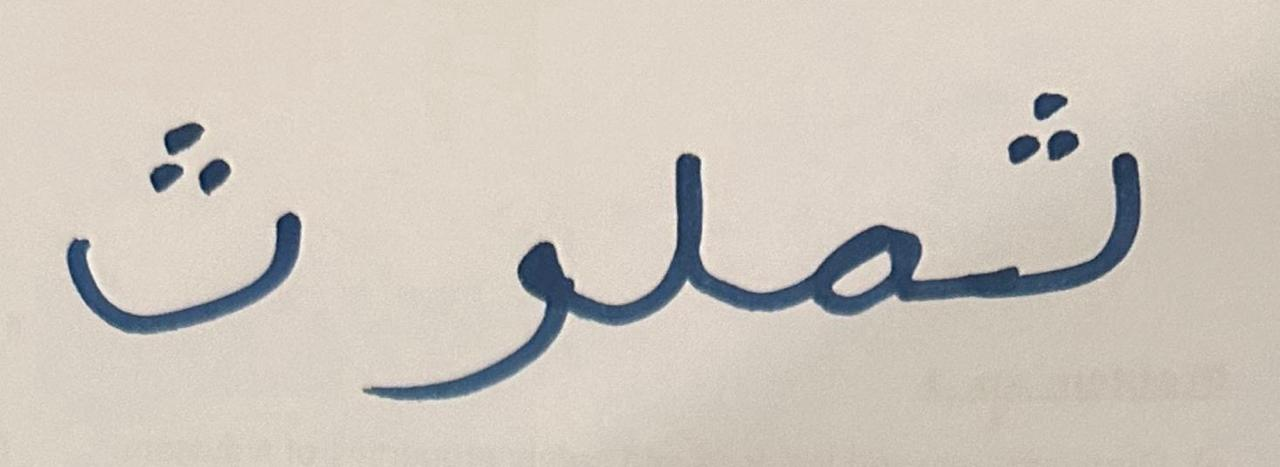meem: (603, 113, 771, 354)
noon: (773, 163, 957, 378)
waw: (51, 75, 339, 382), (960, 26, 1201, 354)
yeh: (342, 195, 600, 420)
